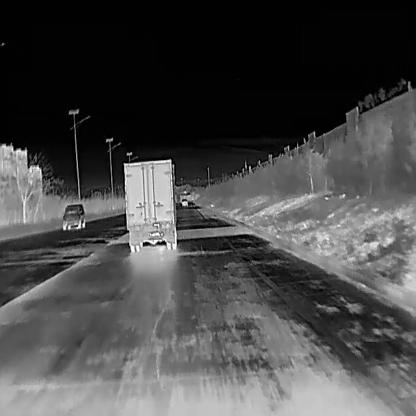car: (61, 203, 85, 228), (180, 198, 187, 206)
truck: (123, 157, 179, 251)
